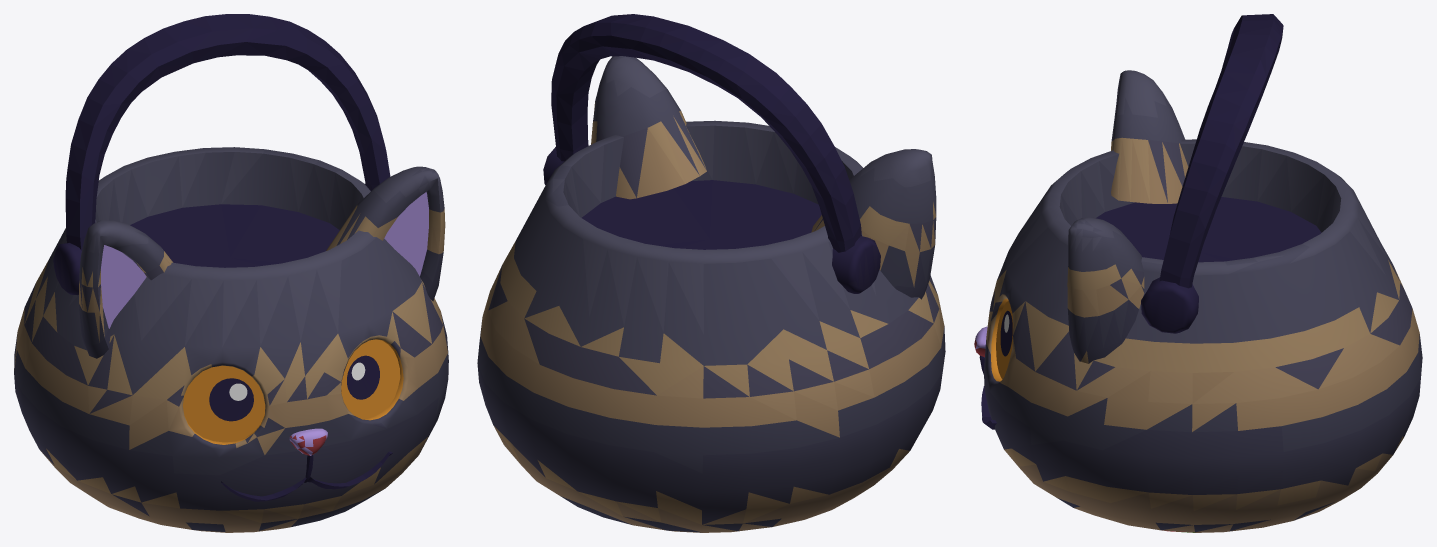
File: EVHalloween_PumpkinTreatPail.fbx
3 renders of one model, left to right at view 1: azimuth 30°, elevation 25°; view 2: azimuth 150°, elevation 25°; view 3: azimuth 270°, elevation 25°, orthographic. The views are drawn at different scales.
Parts seen in each view (by area): view 1: EVHalloween_Decor_PumpkinOrange; view 2: EVHalloween_Decor_PumpkinOrange; view 3: EVHalloween_Decor_PumpkinOrange.
Part boxes in pixels (x1,y1,x2,y2): EVHalloween_Decor_PumpkinOrange: (14,14,448,532); EVHalloween_Decor_PumpkinOrange: (477,14,945,532); EVHalloween_Decor_PumpkinOrange: (974,14,1422,532).
Bounding box in the file's own units: 30.91 × 34.3 × 31.16.
